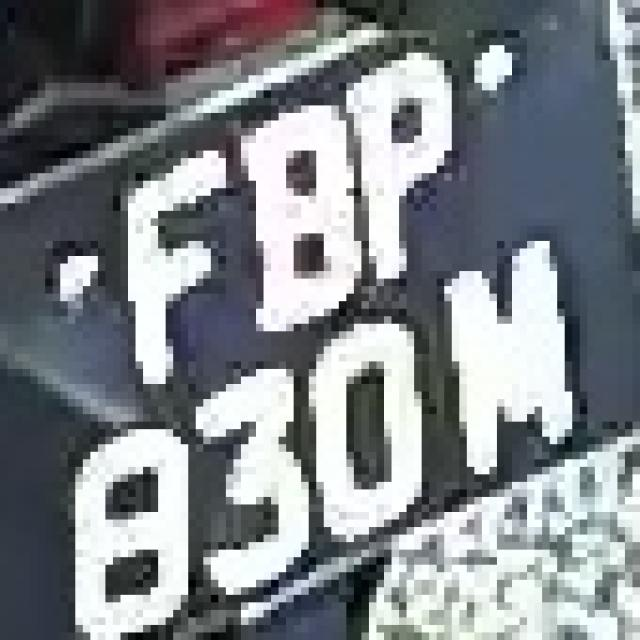0: (301, 301, 437, 550)
3: (188, 369, 301, 625)
8: (0, 5, 2, 8)
B: (233, 98, 354, 339)
F: (98, 143, 226, 399)
M: (437, 241, 587, 474)
P: (346, 60, 482, 264)
